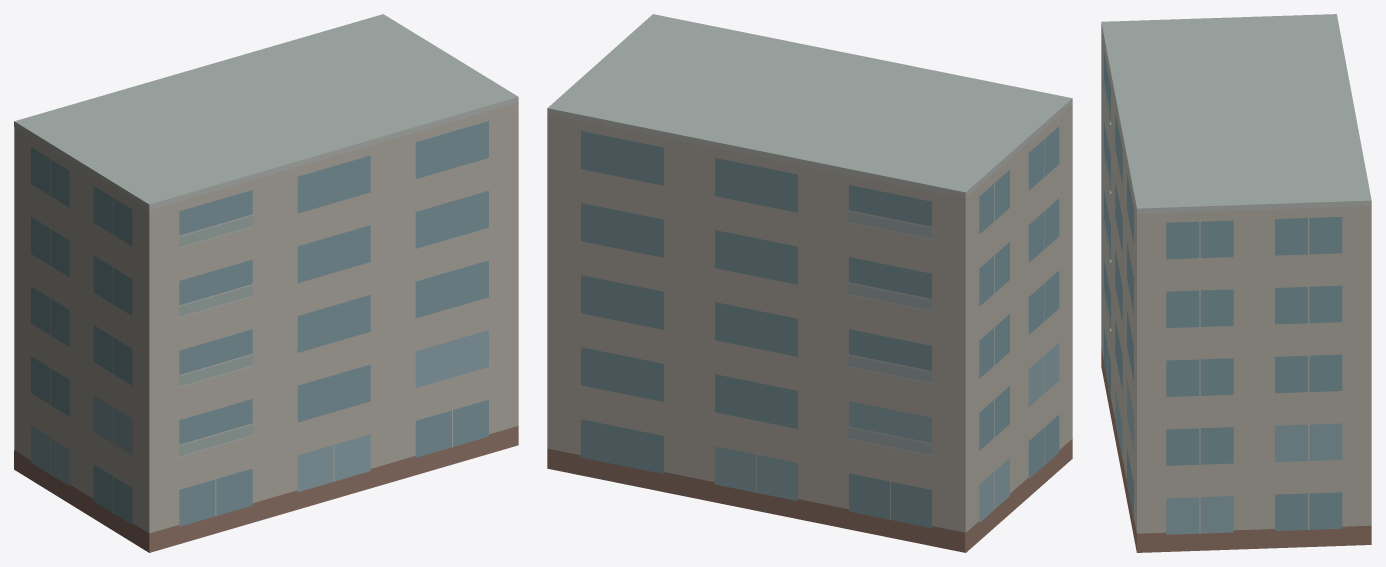
The model's file is survey-upis-32758352.glb.
3 views of the same model, side by side, from view 1: azimuth 30°, elevation 25°; view 2: azimuth 150°, elevation 25°; view 3: azimuth 270°, elevation 25° (orthographic). The views are drawn at different scales.
Visible parts, largest first — view 1: survey-upis-32758352.tmp; view 2: survey-upis-32758352.tmp; view 3: survey-upis-32758352.tmp.
Part boxes in pixels (left/top/right/bottom): survey-upis-32758352.tmp: left=14, top=14, right=518, bottom=552; survey-upis-32758352.tmp: left=547, top=14, right=1072, bottom=552; survey-upis-32758352.tmp: left=1101, top=14, right=1371, bottom=552.
Bounding box in the file's own units: 18.43 × 15.2 × 10.83.
